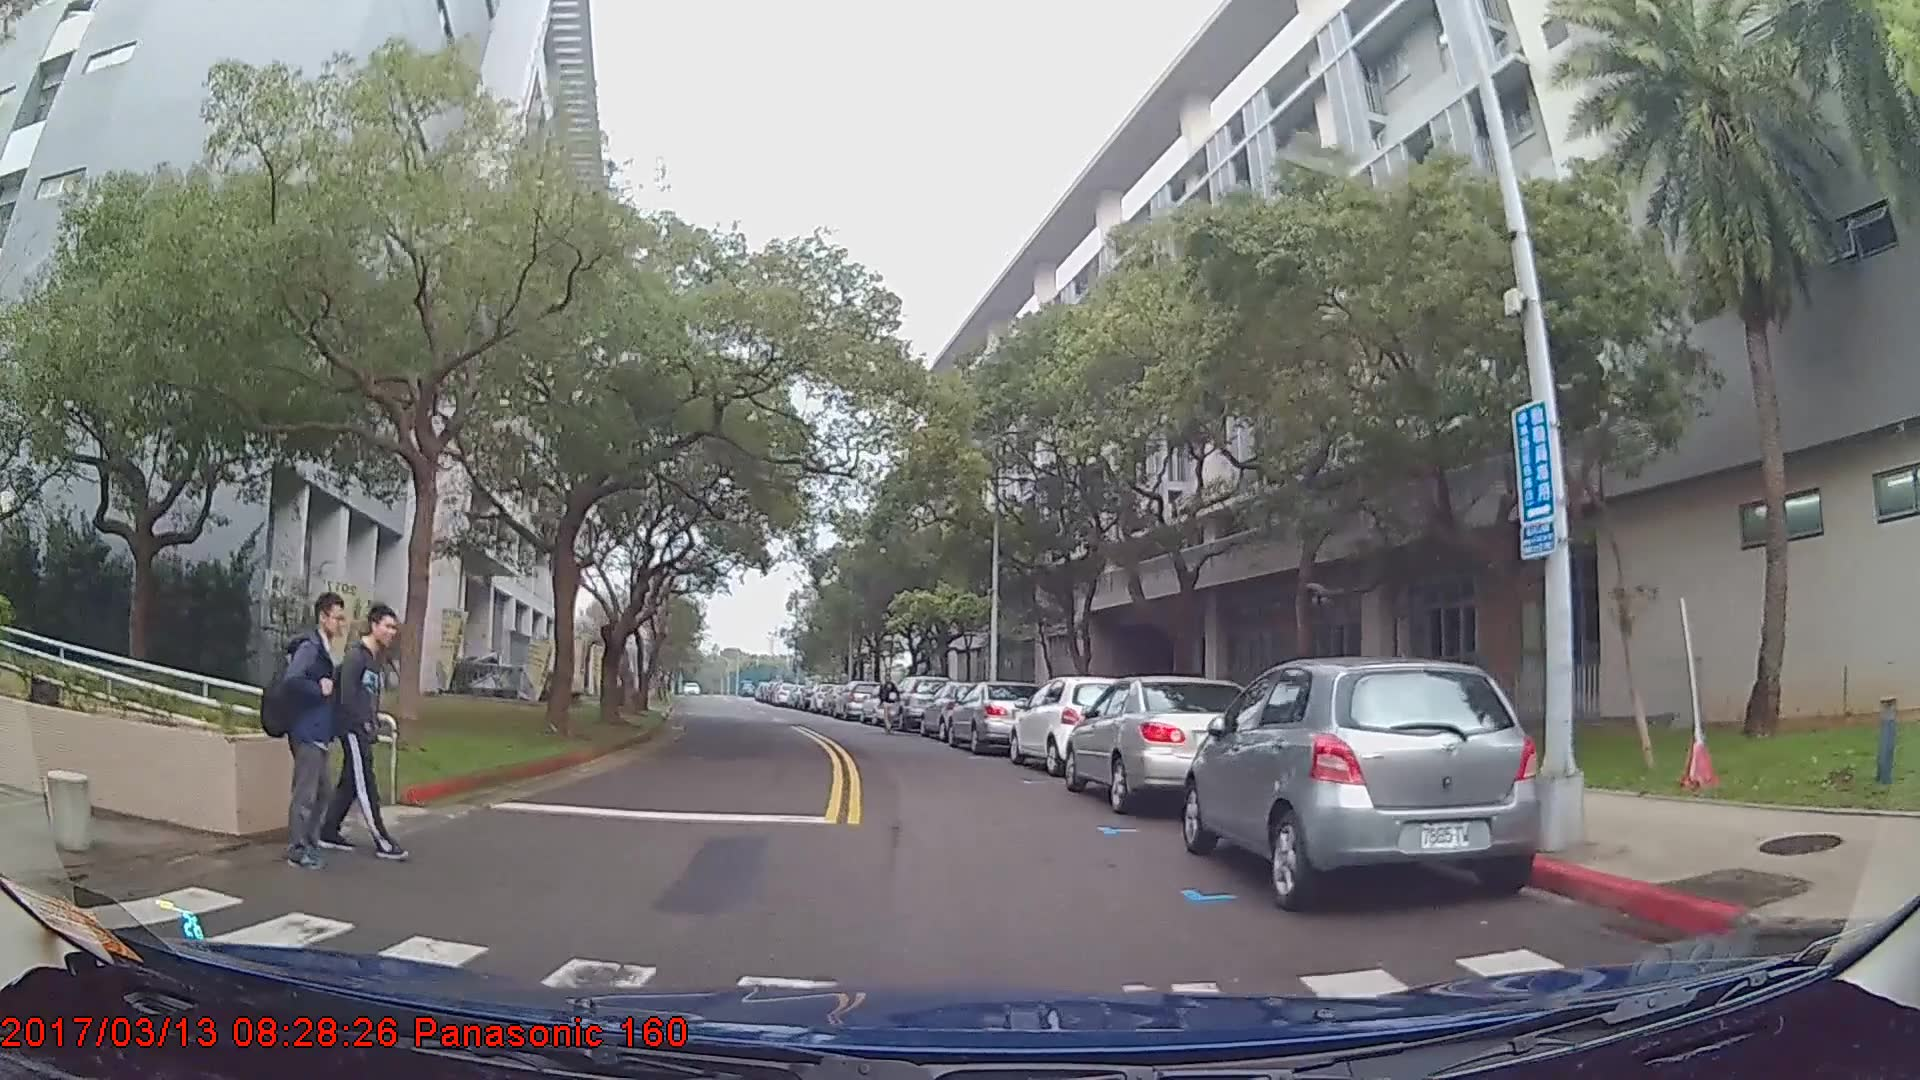pedestrian: (247, 597, 353, 878), (312, 604, 405, 870), (877, 674, 901, 737)
vehicle: (1183, 655, 1543, 915), (1064, 676, 1269, 812), (1007, 673, 1138, 775), (944, 679, 1043, 754), (919, 679, 998, 742), (884, 674, 945, 729), (831, 679, 879, 716)
